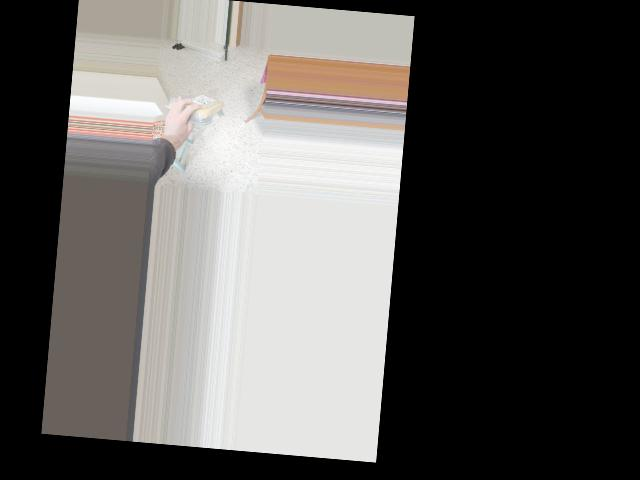cheese: (171, 92, 225, 122)
